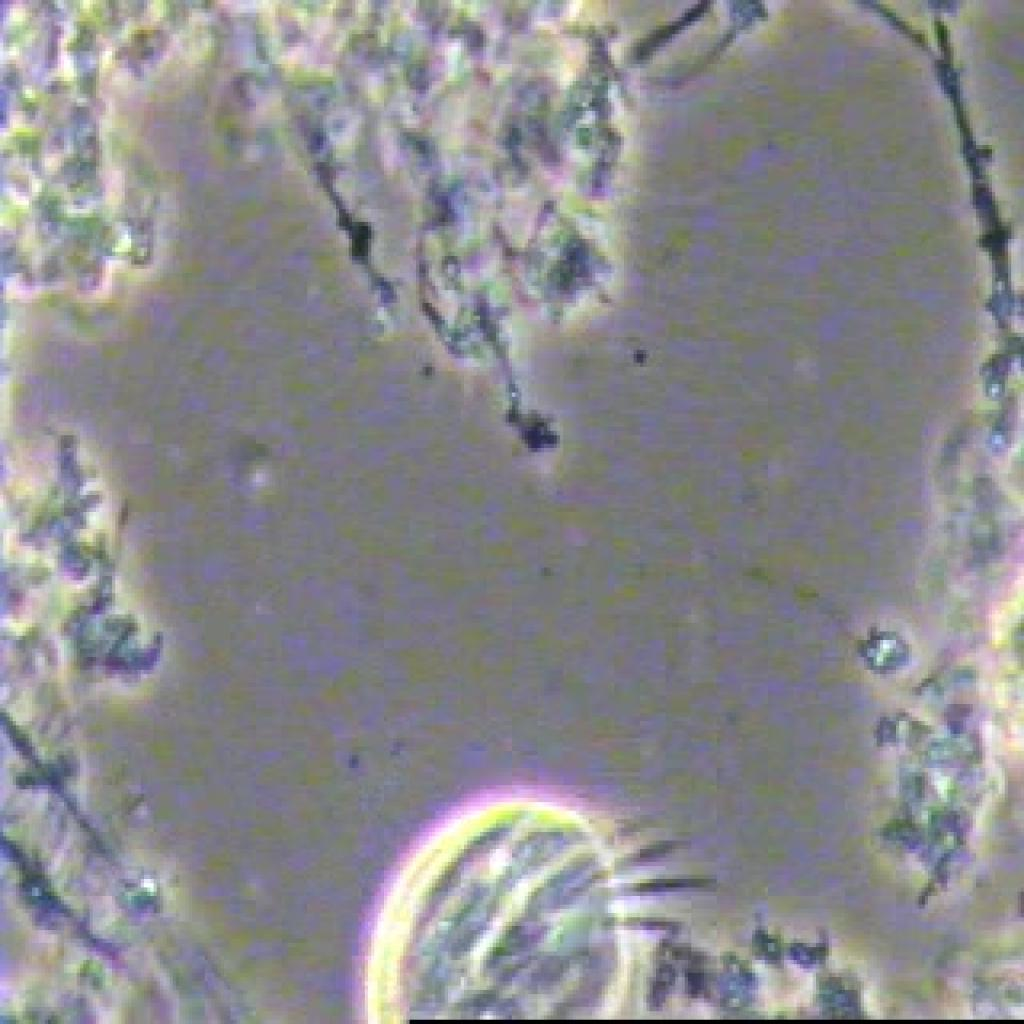Aspidisca: (329, 776, 710, 1024)
